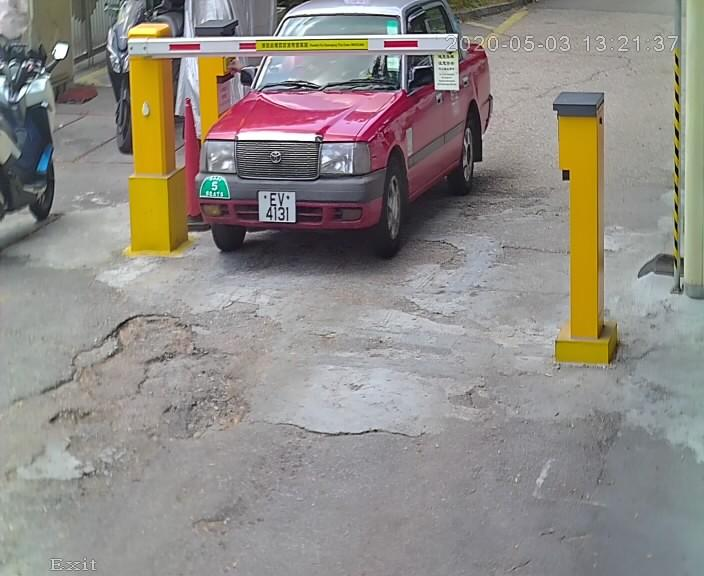Car: (190, 1, 514, 272)
License Plate: (250, 184, 306, 232)
